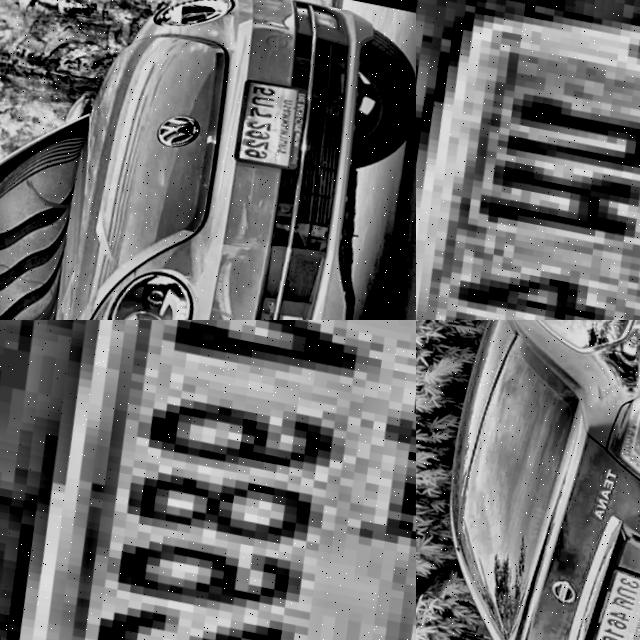license-plate: (0, 320, 416, 640), (416, 0, 640, 320), (226, 76, 310, 171), (576, 563, 640, 640)
